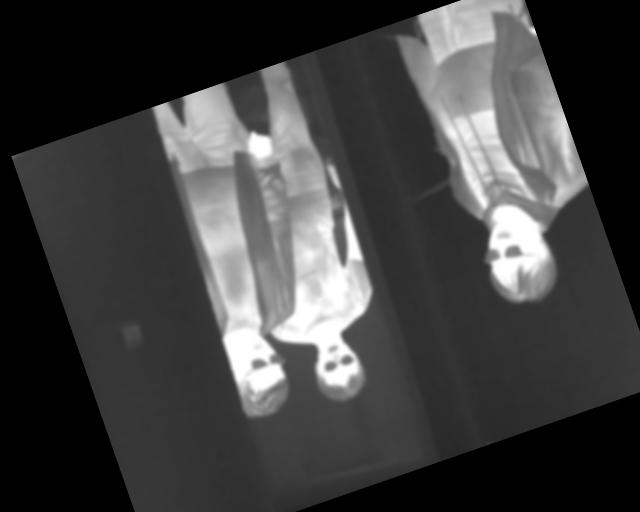face: (475, 208, 567, 315), (220, 324, 298, 423), (304, 329, 372, 408)
